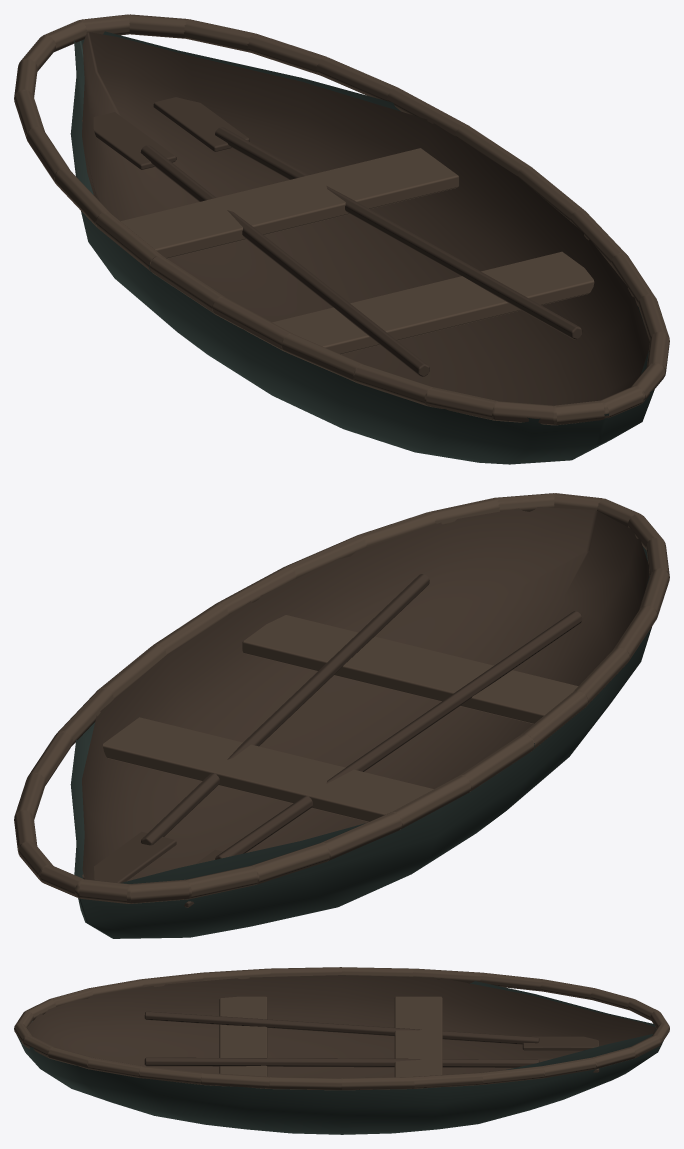
The model's file is SM_ENV_Barco.fbx.
The picture shows the model from 3 angles, top to bottom: view 1: azimuth 30°, elevation 25°; view 2: azimuth 150°, elevation 25°; view 3: azimuth 270°, elevation 25°; orthographic projection. The views are drawn at different scales.
Visible parts, largest first — view 1: SM_ENV_Barco; view 2: SM_ENV_Barco; view 3: SM_ENV_Barco.
Part boxes in pixels (x1=…): SM_ENV_Barco: x1=14, y1=14, x2=669, y2=464; SM_ENV_Barco: x1=14, y1=493, x2=669, y2=938; SM_ENV_Barco: x1=14, y1=967, x2=669, y2=1134.
Size of the model in its own units: 1.26 by 0.48 by 2.99.
